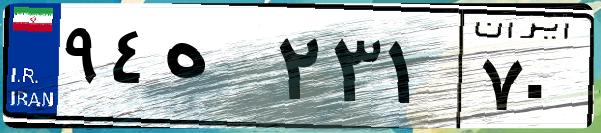0: (525, 38, 570, 115)
1: (385, 28, 445, 110)
2: (270, 28, 330, 110)
3: (330, 28, 385, 110)
4: (110, 28, 158, 98)
7: (475, 38, 525, 113)
9: (57, 26, 110, 100)
ه: (158, 20, 270, 120)
